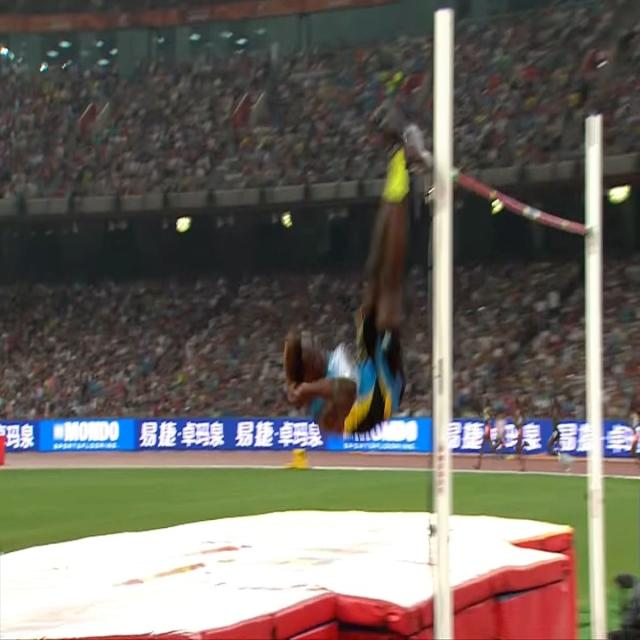land: (282, 102, 411, 436)
